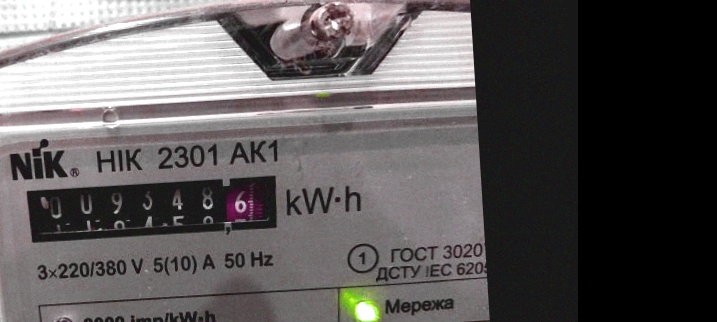0: (77, 190, 93, 214), (47, 192, 61, 219)
3: (137, 185, 153, 212)
4: (167, 183, 183, 211)
6: (230, 186, 248, 214)
8: (197, 183, 214, 211)
9: (107, 188, 123, 215)
screen: (15, 166, 288, 252)
